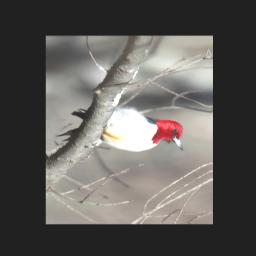Woodpecker: (52, 103, 184, 155)
